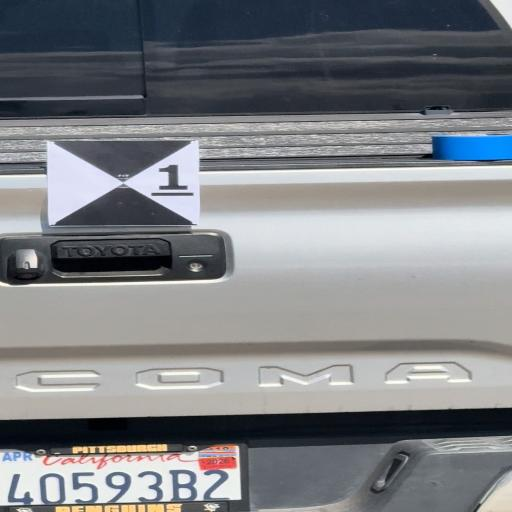target1: (47, 141, 198, 225)
